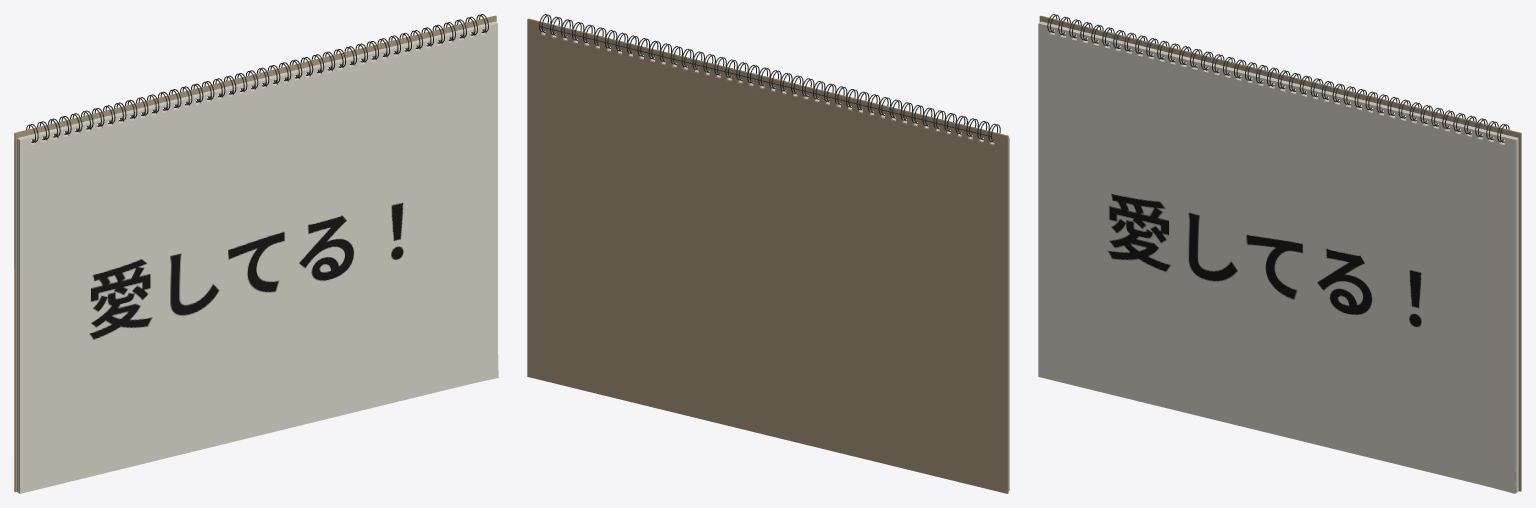
File: Q07_Replaceable_Cue_Board.glb
3 views of the same model, side by side, from view 1: azimuth 30°, elevation 25°; view 2: azimuth 150°, elevation 25°; view 3: azimuth 330°, elevation 25° (orthographic).
Parts seen in each view (by area): view 1: Page 01 • REPLACE IMAGE, Binding • 42 paired wire loops and spine bridges, Cover • back board, Cover • front board • FOLD_BACK, Page 04 • drawing stock; view 2: Cover • front board • FOLD_BACK, Binding • 42 paired wire loops and spine bridges, Cover • back board; view 3: Page 01 • REPLACE IMAGE, Binding • 42 paired wire loops and spine bridges, Cover • back board, Cover • front board • FOLD_BACK, Page 03 • drawing stock.
Boxes of the visible parts, x1,y1,x2,y2 form: Page 01 • REPLACE IMAGE: [19, 23, 498, 493]; Binding • 42 paired wire loops and spine bridges: [26, 14, 488, 142]; Cover • back board: [15, 16, 496, 492]; Cover • front board • FOLD_BACK: [14, 15, 495, 491]; Page 04 • drawing stock: [19, 23, 496, 493]; Cover • front board • FOLD_BACK: [527, 19, 1007, 493]; Binding • 42 paired wire loops and spine bridges: [539, 14, 1000, 142]; Cover • back board: [528, 18, 1008, 493]; Page 01 • REPLACE IMAGE: [1038, 23, 1515, 493]; Binding • 42 paired wire loops and spine bridges: [1047, 14, 1509, 142]; Cover • back board: [1039, 16, 1520, 491]; Cover • front board • FOLD_BACK: [1040, 15, 1521, 490]; Page 03 • drawing stock: [1039, 23, 1516, 492].
Size of the model in its own units: 0.423 by 0.3062 by 0.0144.
Materials: 8 (3 with a texture image).
